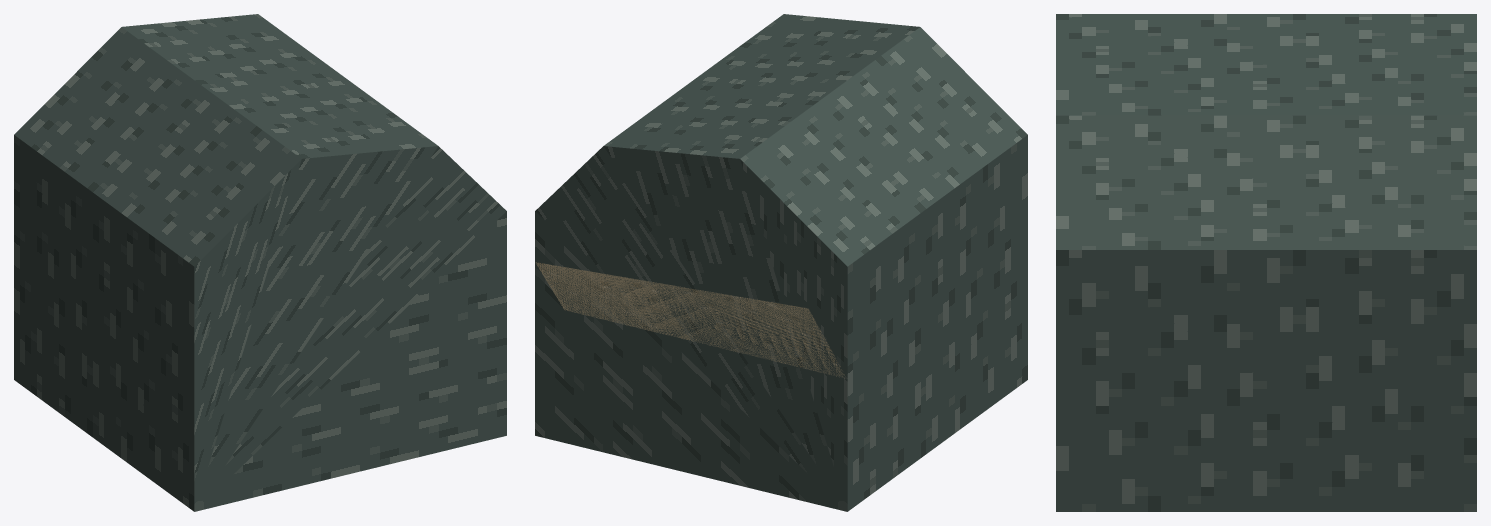
The model's file is coastal_rock_face.gltf.
The picture shows the model from 3 angles, left to right: view 1: azimuth 30°, elevation 25°; view 2: azimuth 150°, elevation 25°; view 3: azimuth 270°, elevation 25°; orthographic projection. The views are drawn at different scales.
Visible parts, largest first — view 1: rock; view 2: rock, ledge; view 3: rock.
Boxes of the visible parts, x1=… form: rock: x1=14, y1=14, x2=506, y2=511; rock: x1=535, y1=14, x2=1027, y2=511; ledge: x1=535, y1=262, x2=845, y2=378; rock: x1=1056, y1=14, x2=1476, y2=511.
Bounding box in the file's own units: 2 × 2 × 2.
Materials: 2 (2 with a texture image).
